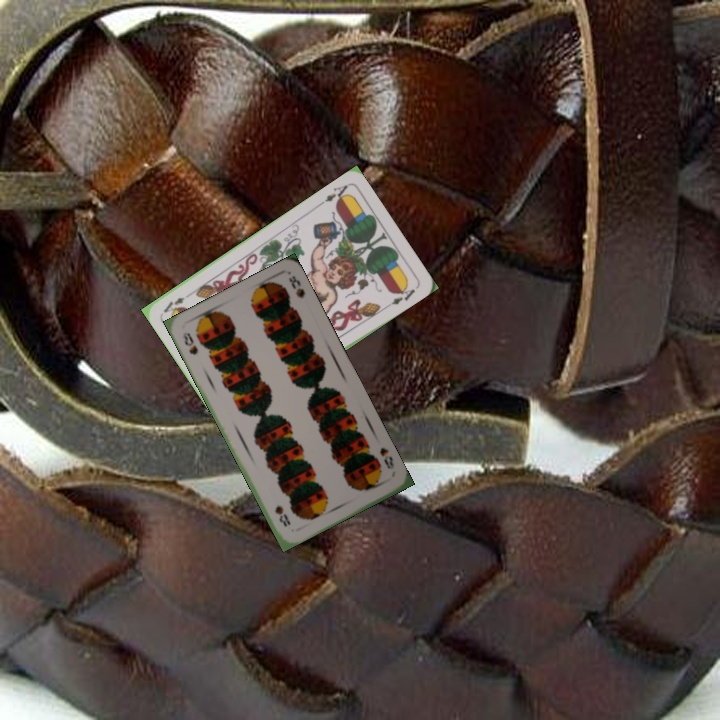EA: (315, 180, 352, 208)
S8: (179, 328, 201, 357), (376, 443, 397, 472)
